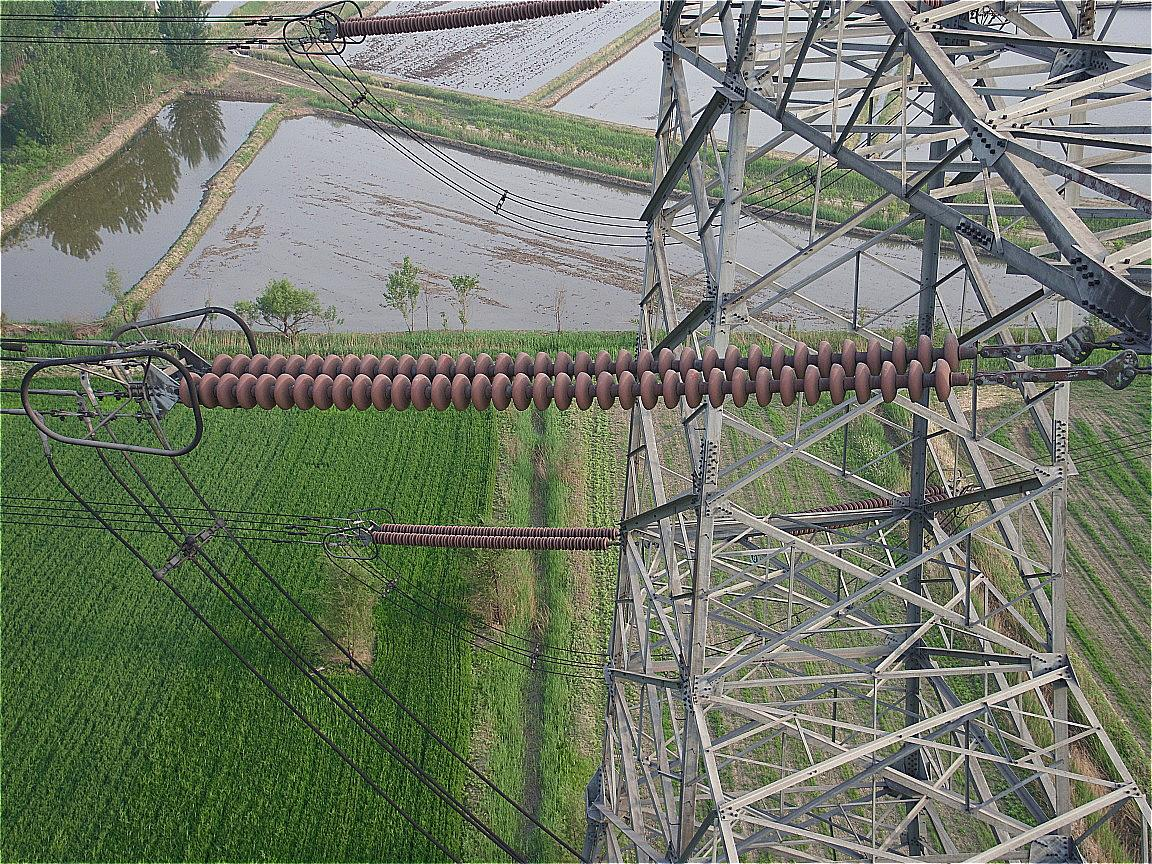insultor1: (180, 333, 964, 410)
insultor2: (336, 1, 603, 39), (373, 521, 618, 552)
